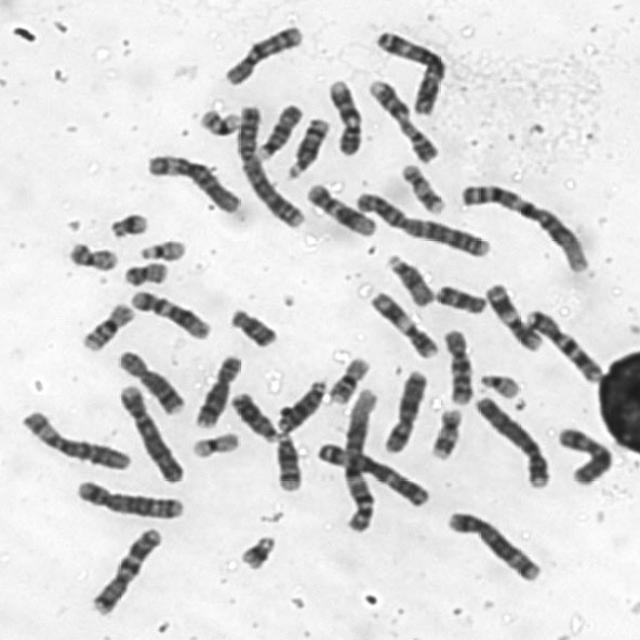A1: (457, 180, 592, 274), (340, 384, 380, 534)
A2: (351, 188, 493, 258), (232, 102, 307, 229)
A3: (313, 438, 432, 508), (372, 28, 447, 116)
B4: (472, 391, 552, 490), (115, 380, 187, 485)
B5: (443, 506, 544, 584), (72, 476, 186, 520)
C10: (219, 21, 305, 87), (439, 325, 475, 407)
C11: (366, 288, 440, 360), (482, 280, 544, 352)
C12: (126, 286, 212, 341), (303, 179, 377, 237)
C6: (16, 406, 133, 472), (143, 149, 242, 215)
C7: (84, 522, 164, 616), (522, 307, 603, 384)
C8: (113, 346, 186, 416), (192, 352, 244, 429)
C9: (365, 75, 440, 165), (324, 76, 364, 157)
D13: (272, 376, 328, 433), (229, 390, 278, 442)
D14: (283, 114, 332, 180), (270, 430, 304, 494)
D15: (254, 101, 306, 161), (384, 250, 434, 307)
E16: (77, 300, 136, 352), (324, 352, 374, 405)
E17: (398, 161, 446, 217), (427, 405, 464, 462)
E18: (226, 304, 279, 348), (432, 281, 488, 316)
F19: (187, 428, 240, 460), (198, 108, 243, 139)
F20: (65, 238, 119, 272), (121, 258, 170, 288)
G21: (235, 530, 278, 571), (105, 209, 151, 239)
G22: (136, 236, 189, 262), (476, 371, 521, 399)
X: (378, 366, 429, 456), (555, 423, 614, 485)
